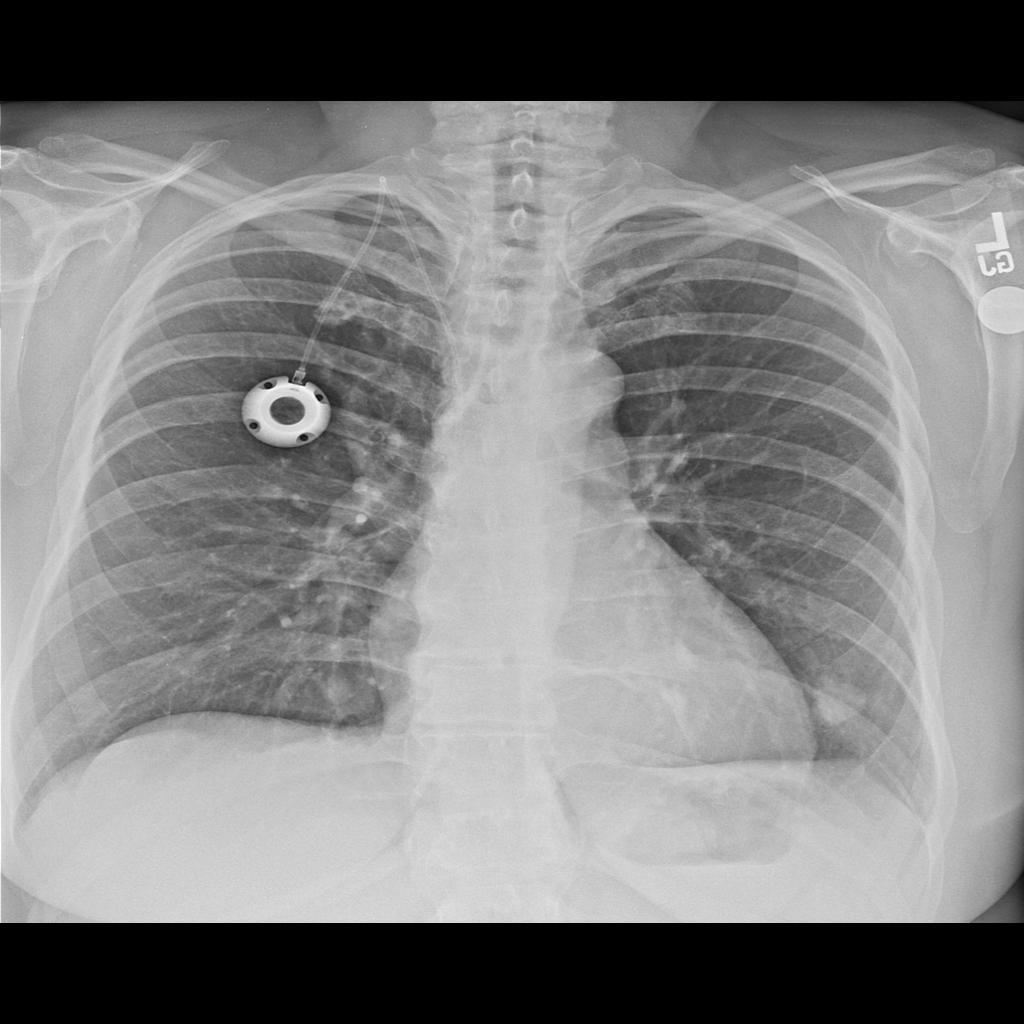Nodule: (813, 671, 875, 733)
